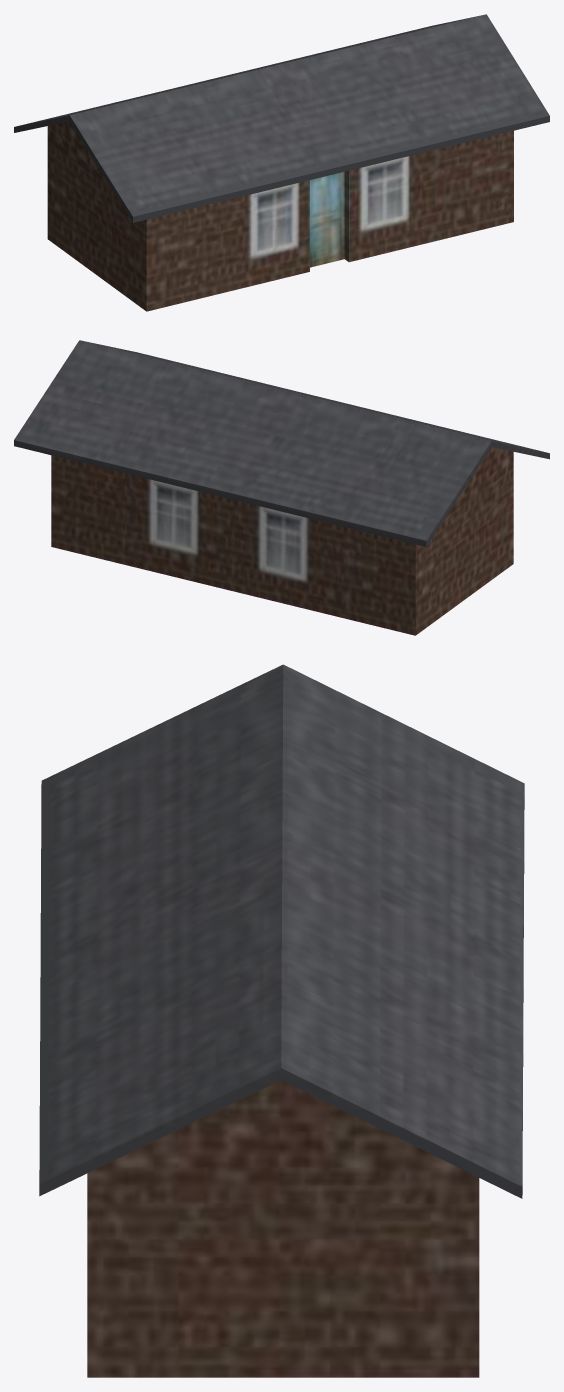
The model's file is Rumah 1.fbx.
3 views of the same model, one above another, from view 1: azimuth 30°, elevation 25°; view 2: azimuth 150°, elevation 25°; view 3: azimuth 270°, elevation 25° (orthographic). The views are drawn at different scales.
Parts seen in each view (by area): view 1: Cube; view 2: Cube; view 3: Cube.
Part boxes in pixels (box(x1,y1,x2,y2)): Cube: box(14, 14, 549, 311); Cube: box(14, 340, 549, 635); Cube: box(39, 664, 524, 1377).
Size of the model in its own units: 1252 by 474 by 629.
Materials: 1 (1 with a texture image).
